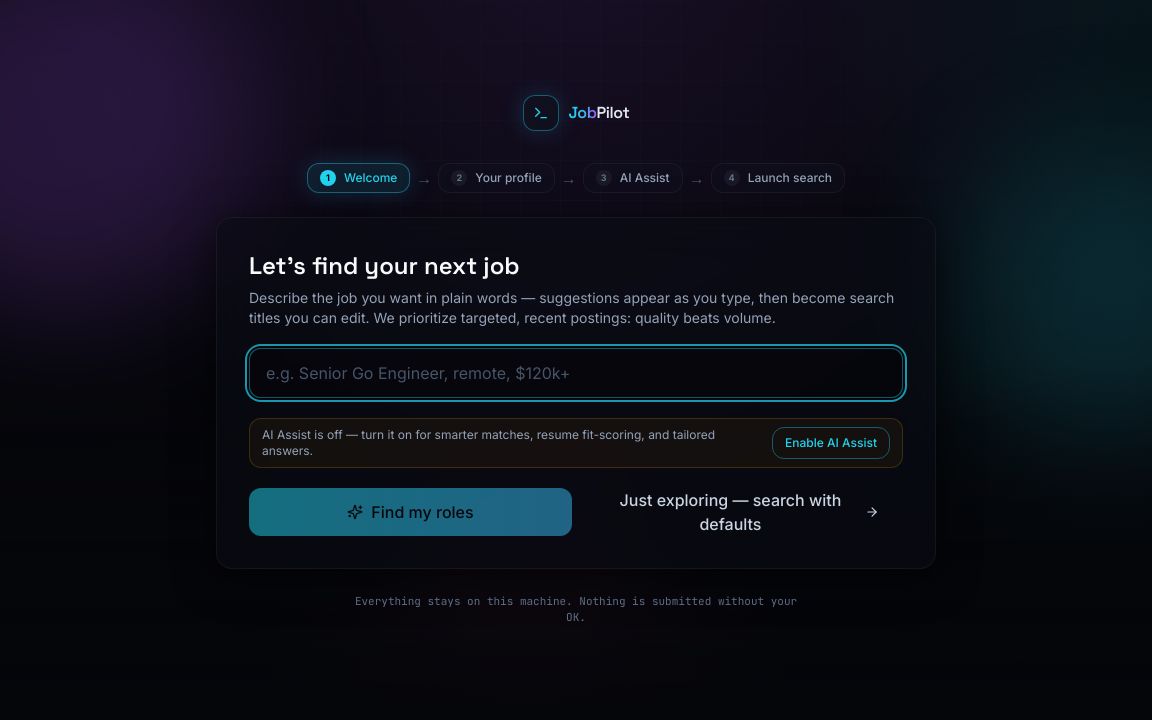
Test: OnboardingPage › shows live suggestions while typing (no click needed)
In the field named "what job do you want": x=576, y=372 x1=249 y1=348 x2=903 y2=398, type "Senior Go Engineer, remote"
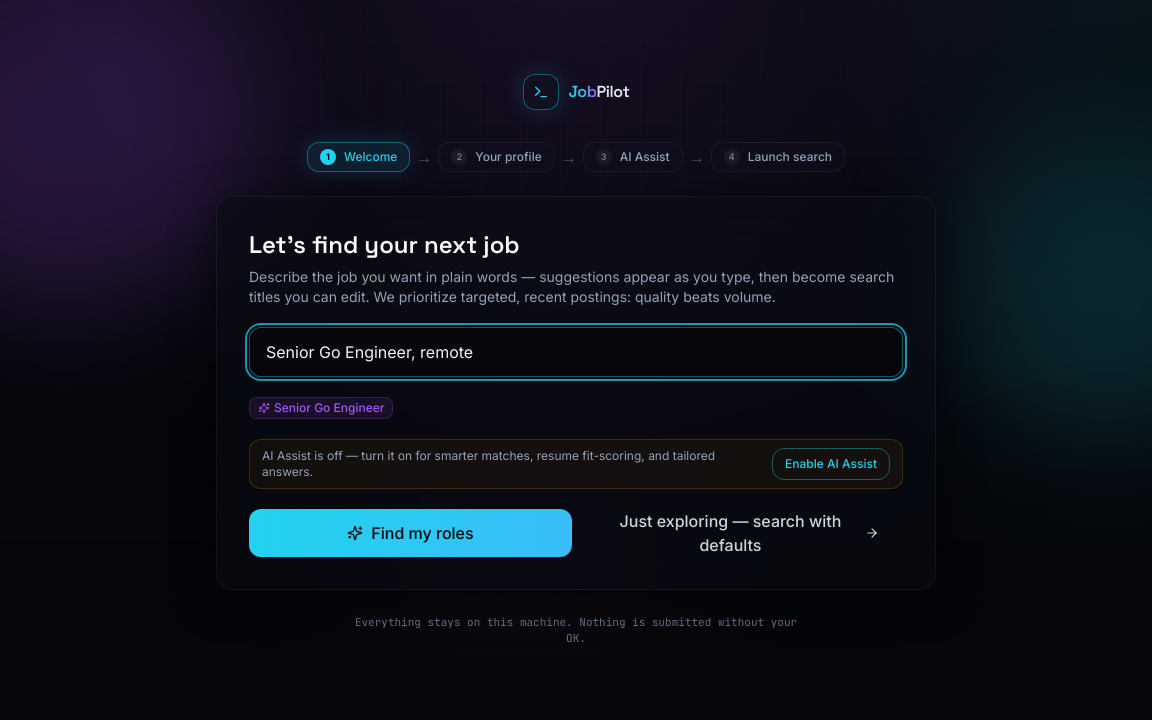
expect the text "Senior Go Engineer" is shown: met, box x1=249 y1=396 x2=393 y2=418
